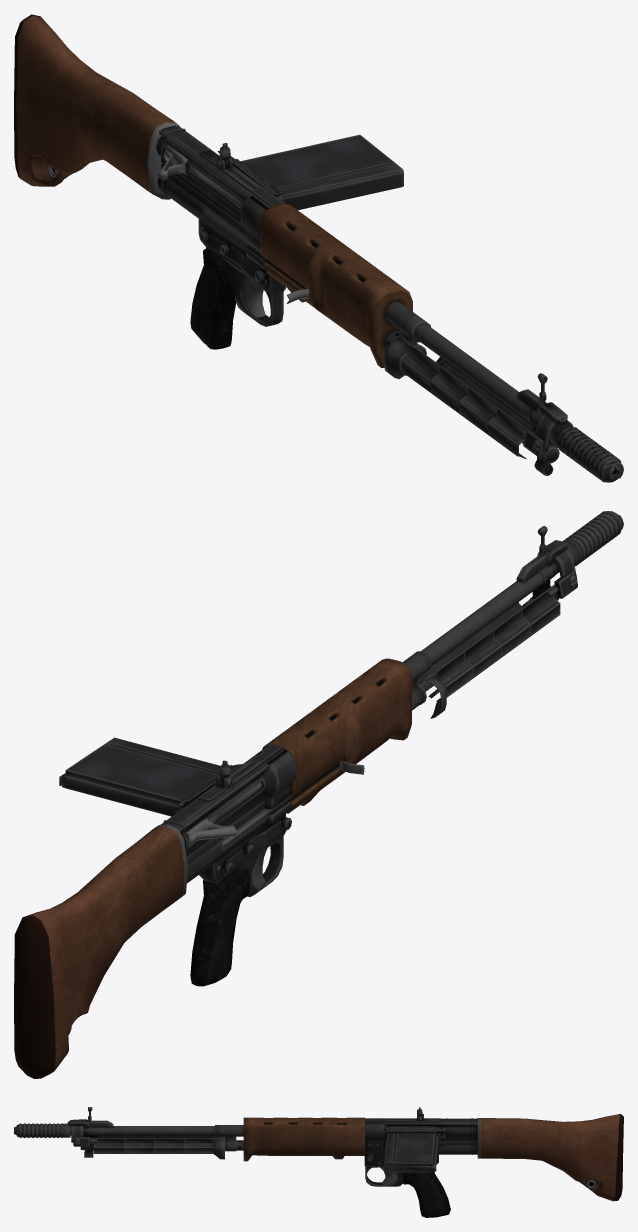
3 renders of one model, top to bottom at view 1: azimuth 30°, elevation 25°; view 2: azimuth 150°, elevation 25°; view 3: azimuth 270°, elevation 25°, orthographic. The views are drawn at different scales.
Parts seen in each view (by area): view 1: FG42; view 2: FG42; view 3: FG42.
Part boxes in pixels (x1,y1,x2,y2): FG42: [14, 14, 623, 482]; FG42: [14, 511, 623, 1078]; FG42: [14, 1107, 623, 1217].
Bounding box in the file's own units: 0.1827 × 0.1925 × 0.975.
